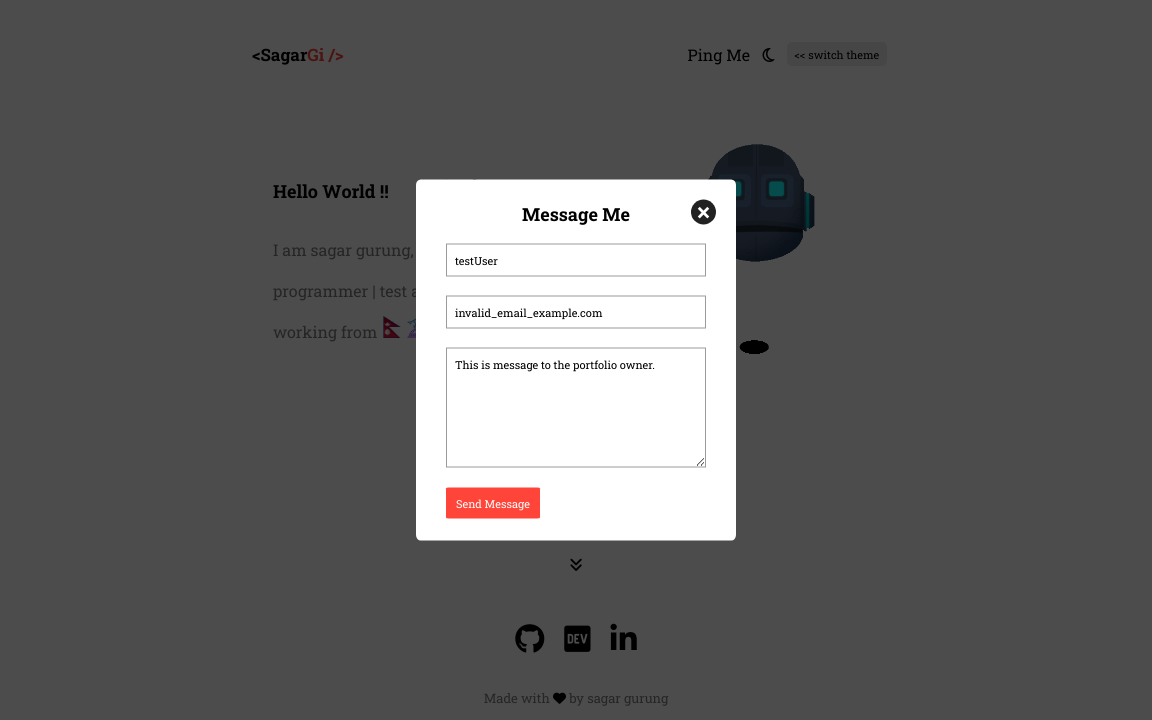
Contact/Message Me Form › on trigger send message › should show "Your email address is invalid !!" on invalid email address
What coordinates should you click on to do the following:
click the button with id "submit"
I would click on:
 (493, 503)
Its box is x1=446 y1=488 x2=540 y2=518.
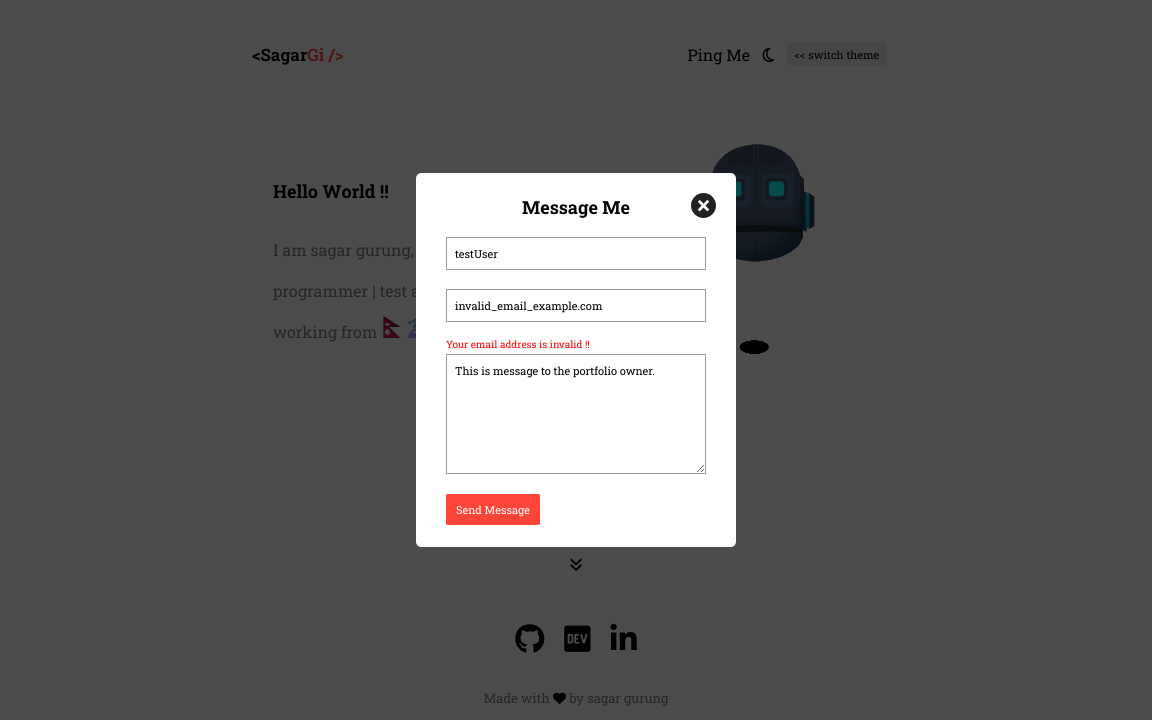
Expected: the text "Your email address is invalid !!" is shown, x1=446 y1=338 x2=590 y2=351
